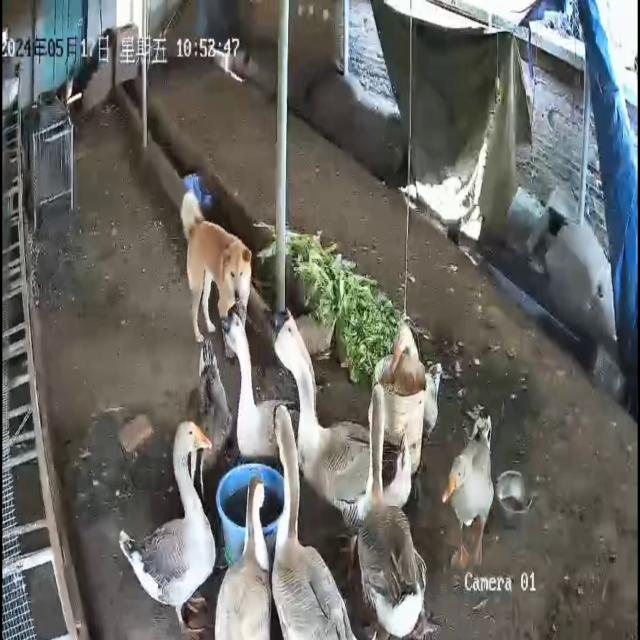dog: (181, 191, 253, 345)
